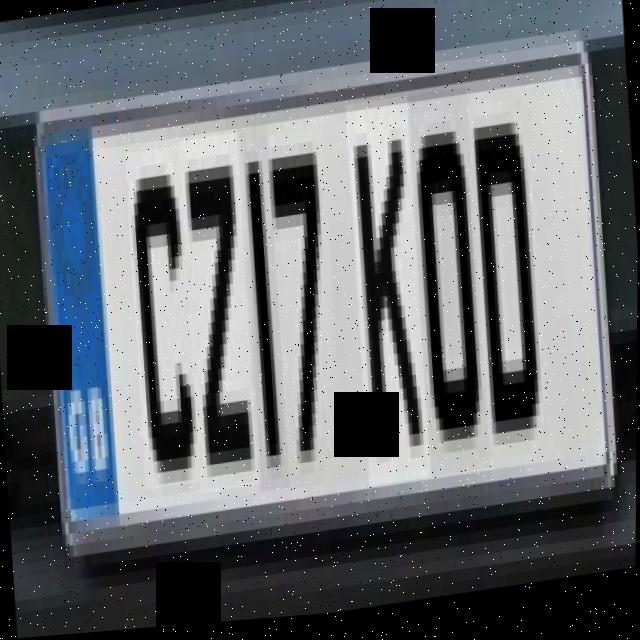0: (406, 93, 493, 485)
1: (235, 127, 292, 497)
7: (262, 112, 346, 478)
C: (123, 146, 204, 493)
D: (466, 95, 557, 459)
K: (343, 101, 433, 493)
Z: (177, 135, 264, 498)
